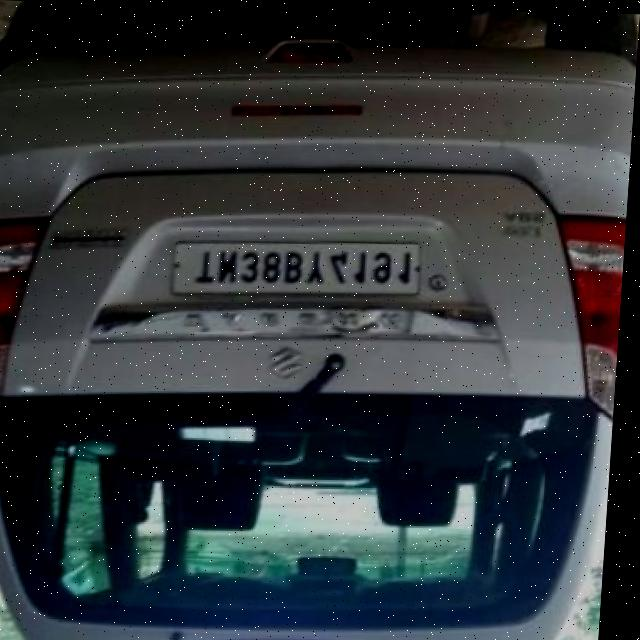plate: (171, 237, 426, 301)
